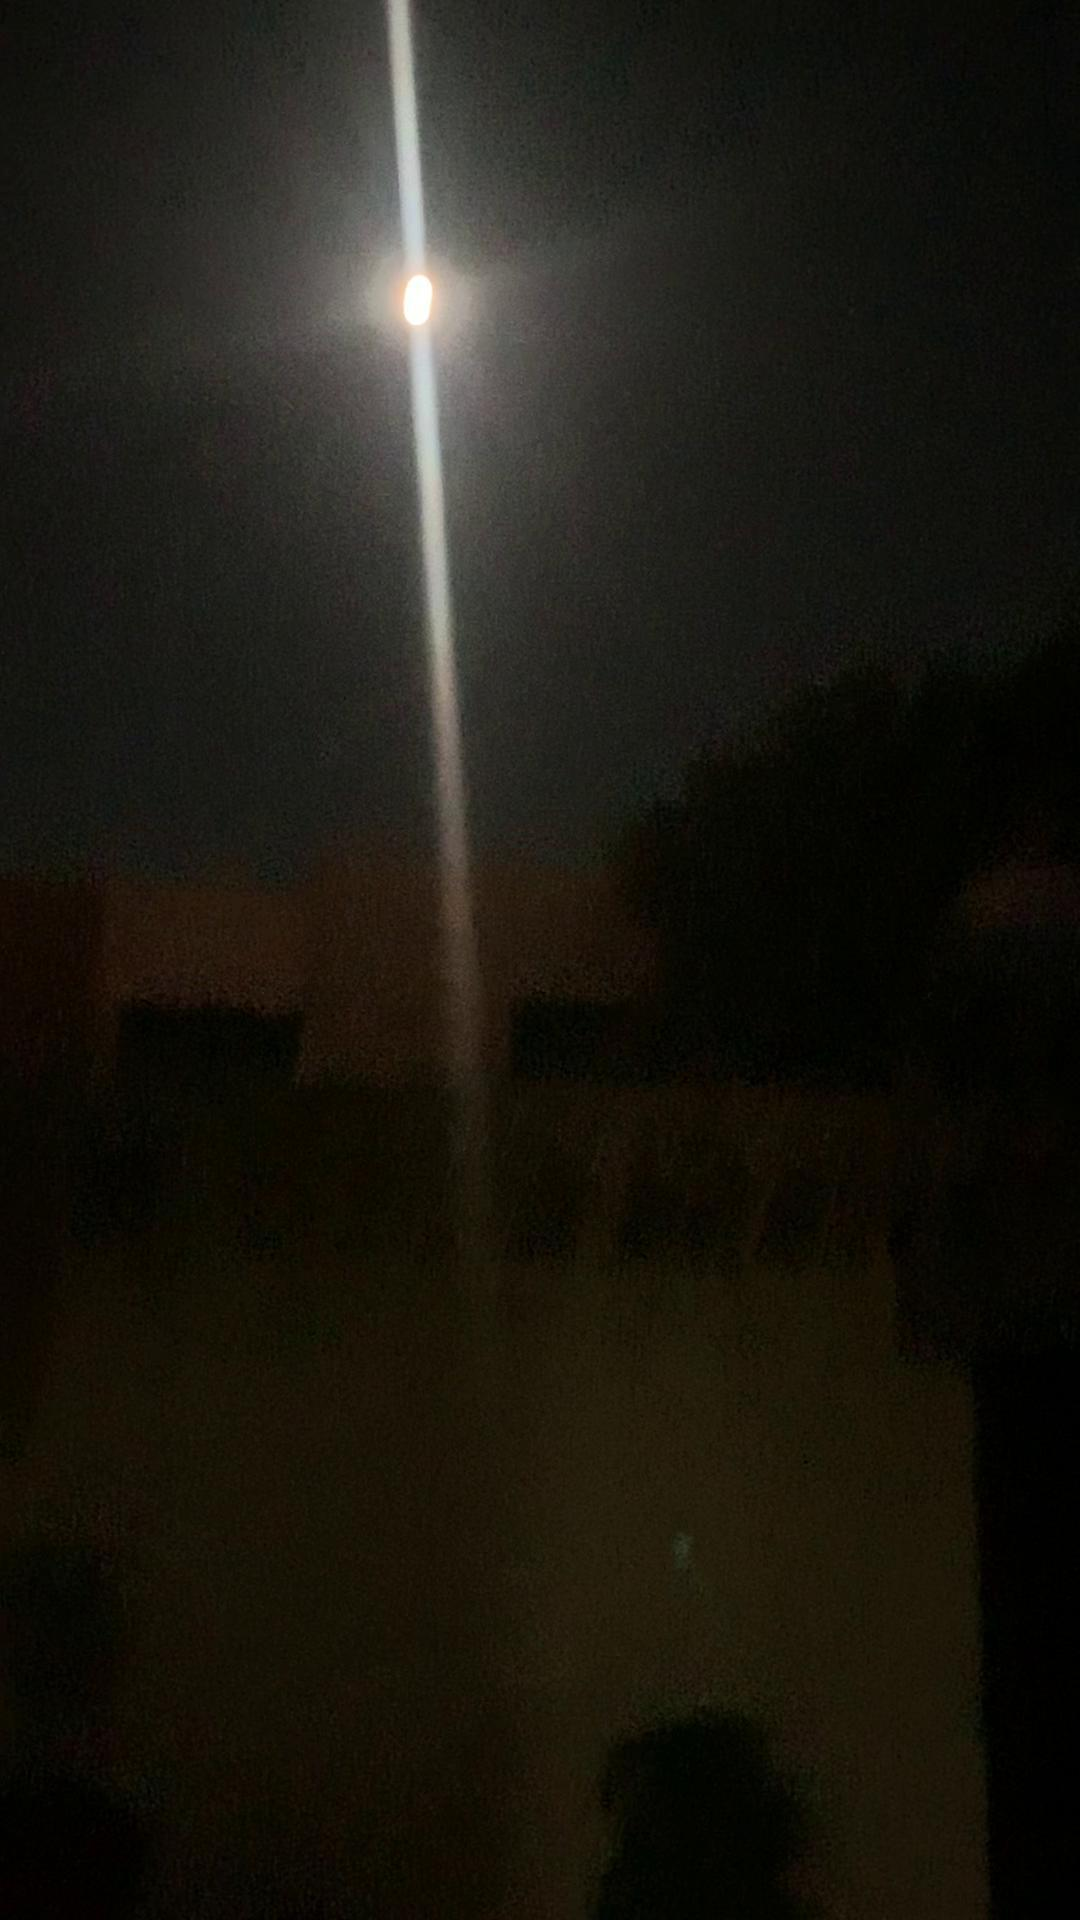moon: (368, 257, 472, 356)
